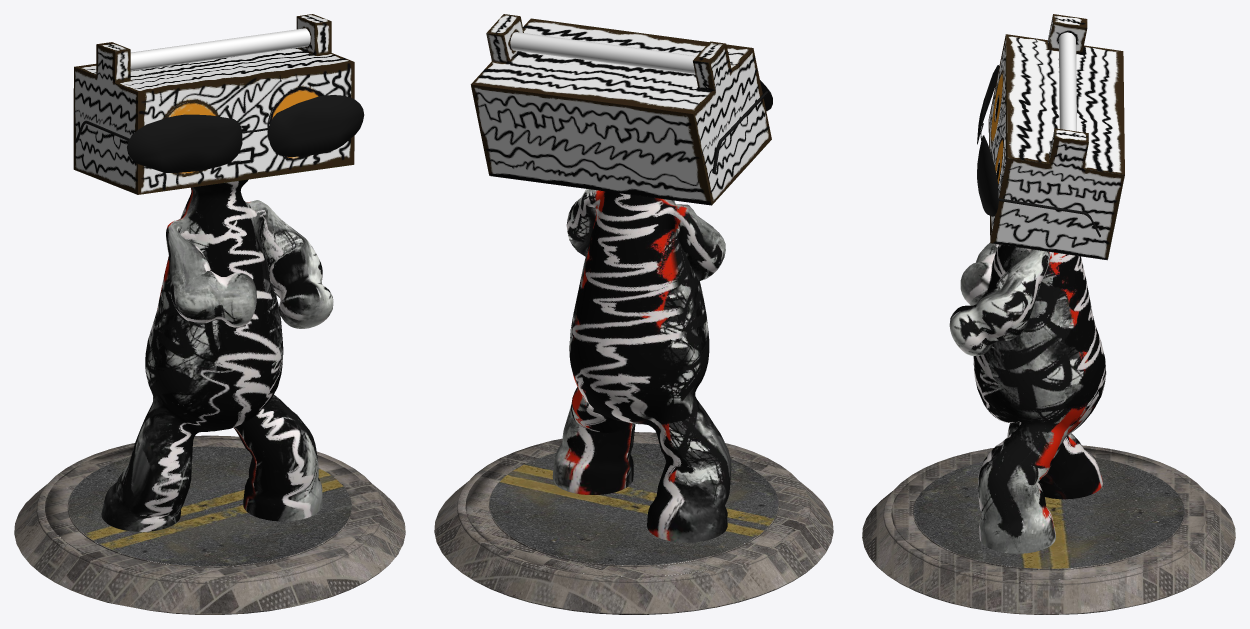
3 views of the same model, side by side, from view 1: azimuth 30°, elevation 25°; view 2: azimuth 150°, elevation 25°; view 3: azimuth 270°, elevation 25° (orthographic). The views are drawn at different scales.
Parts seen in each view (by area): view 1: BBody; view 2: BBody; view 3: BBody.
Part boxes in pixels (x1,y1,x2,y2): BBody: (14,14,405,614); BBody: (434,14,833,614); BBody: (862,14,1235,614).
Bounding box in the file's own units: 1.45 × 2.05 × 1.45.
5 materials, 4 textured.
